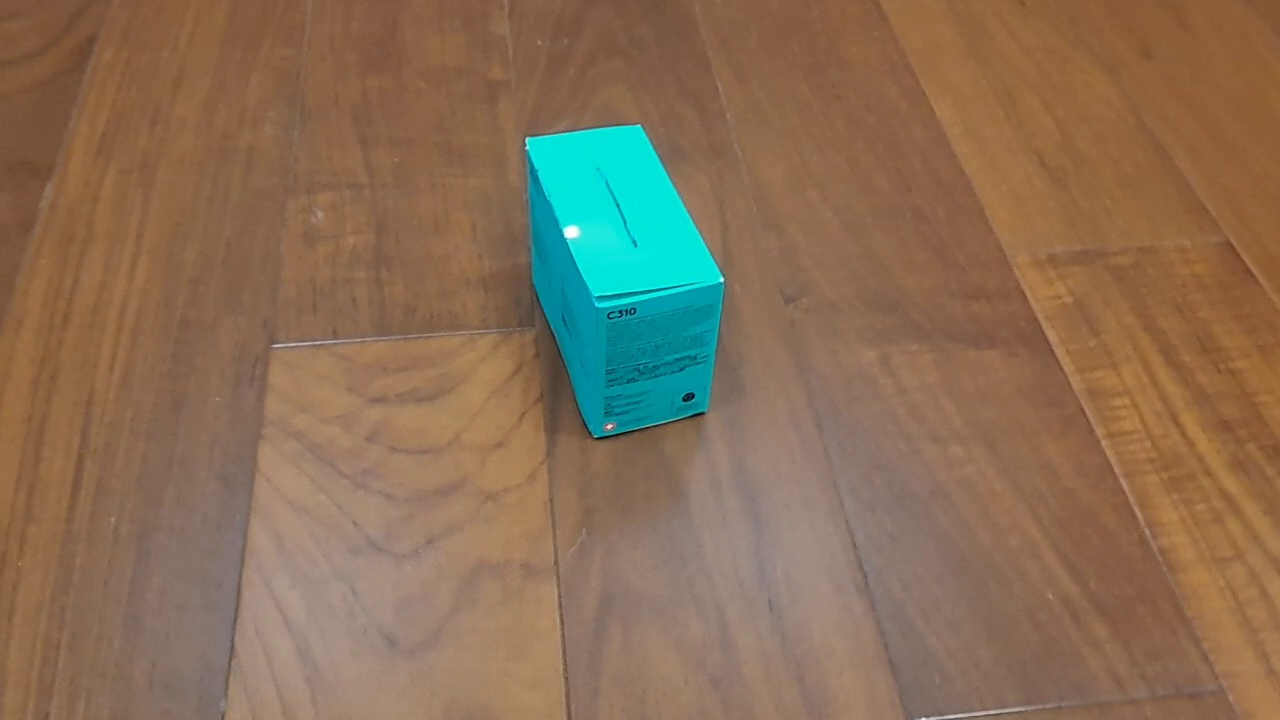webcam: (523, 123, 728, 442)
